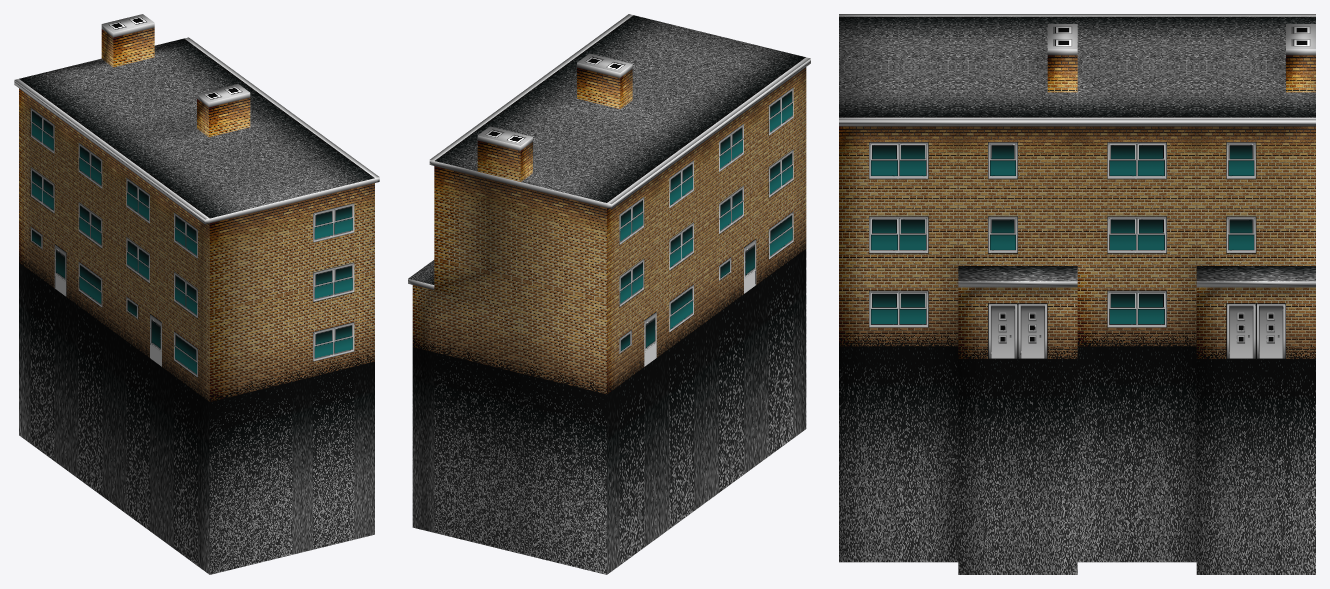
File: maisonet_mod1_2b.fbx
3 renders of one model, left to right at view 1: azimuth 30°, elevation 25°; view 2: azimuth 150°, elevation 25°; view 3: azimuth 270°, elevation 25°, orthographic. The views are drawn at different scales.
Parts seen in each view (by area): view 1: maisonet_mod1_2b; view 2: maisonet_mod1_2b; view 3: maisonet_mod1_2b.
Boxes of the visible parts, x1,y1,x2,y2 form: maisonet_mod1_2b: (14,14,379,574); maisonet_mod1_2b: (408,14,810,574); maisonet_mod1_2b: (839,14,1315,574).
Bounding box in the file's own units: 1062 × 2033 × 1800.
